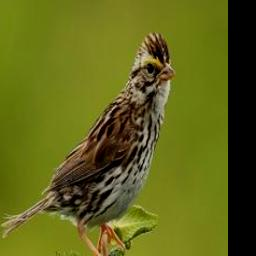Sparrow: (0, 24, 175, 256)
